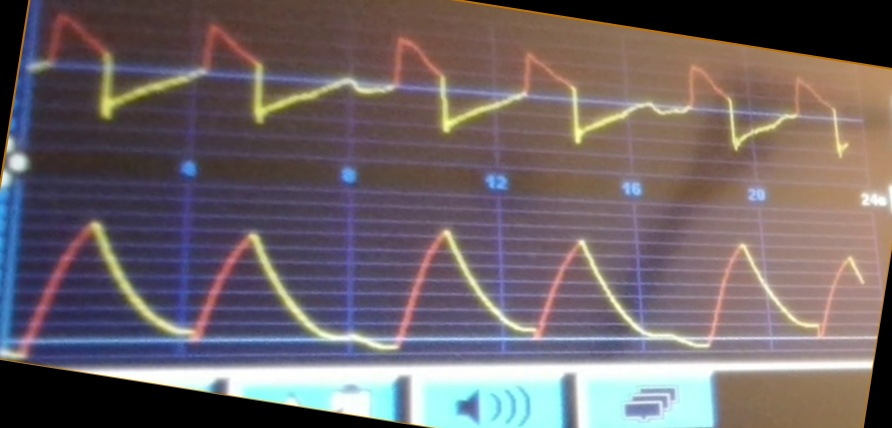Ineffective_effort Flow: (35, 11, 850, 156)
Ineffective_effort Volume: (16, 217, 870, 354)
